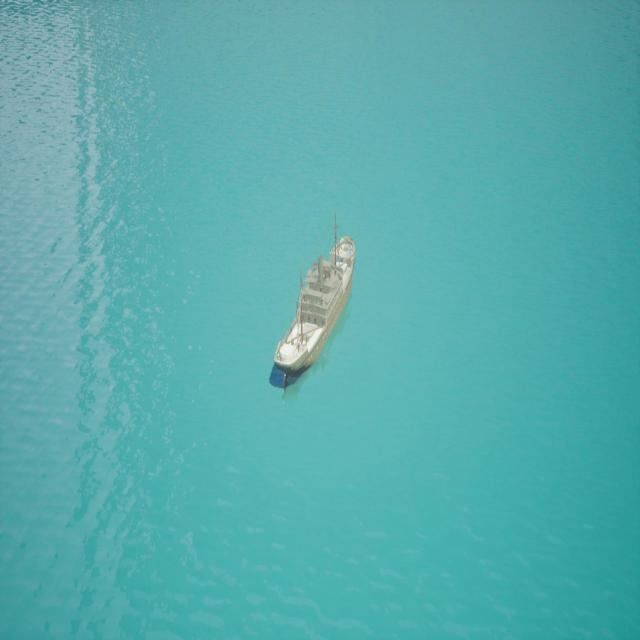fishing ship: (273, 233, 357, 402)
